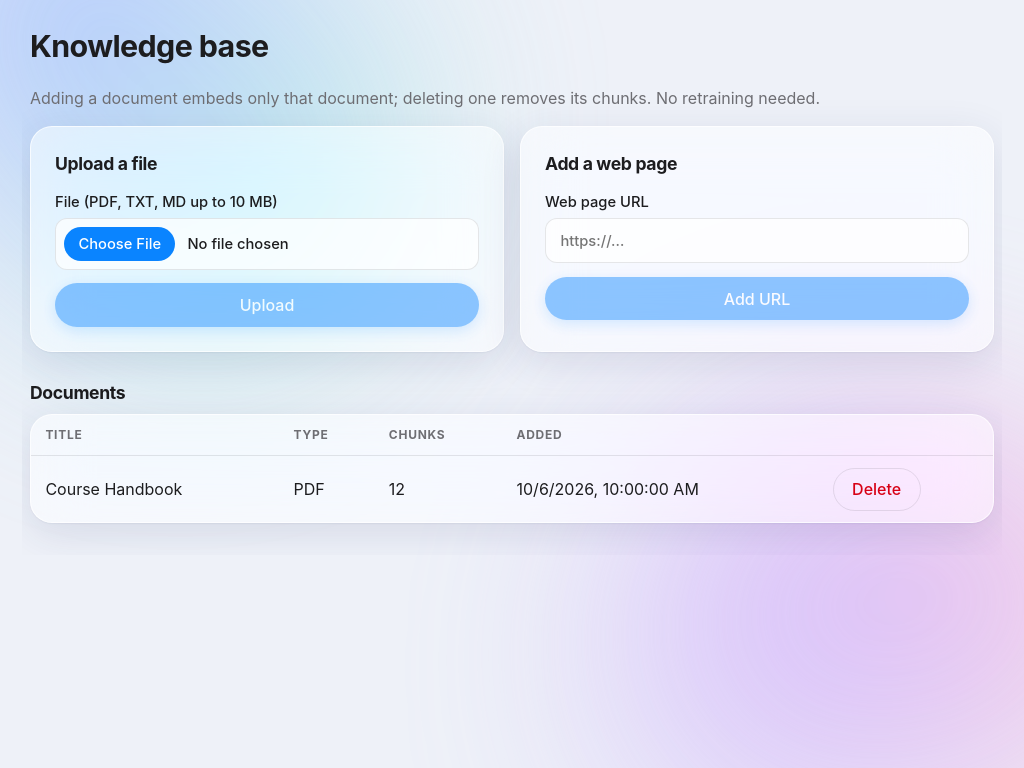
it: AdminPage › shows 'Already in knowledge base' when duplicate is true
Expected: the table is shown, [30,414,994,523]
Type "https://example.com/page" into the field labelled "Web page URL".
click(757, 241); type("https://example.com/page")  # box [545,218,969,263]
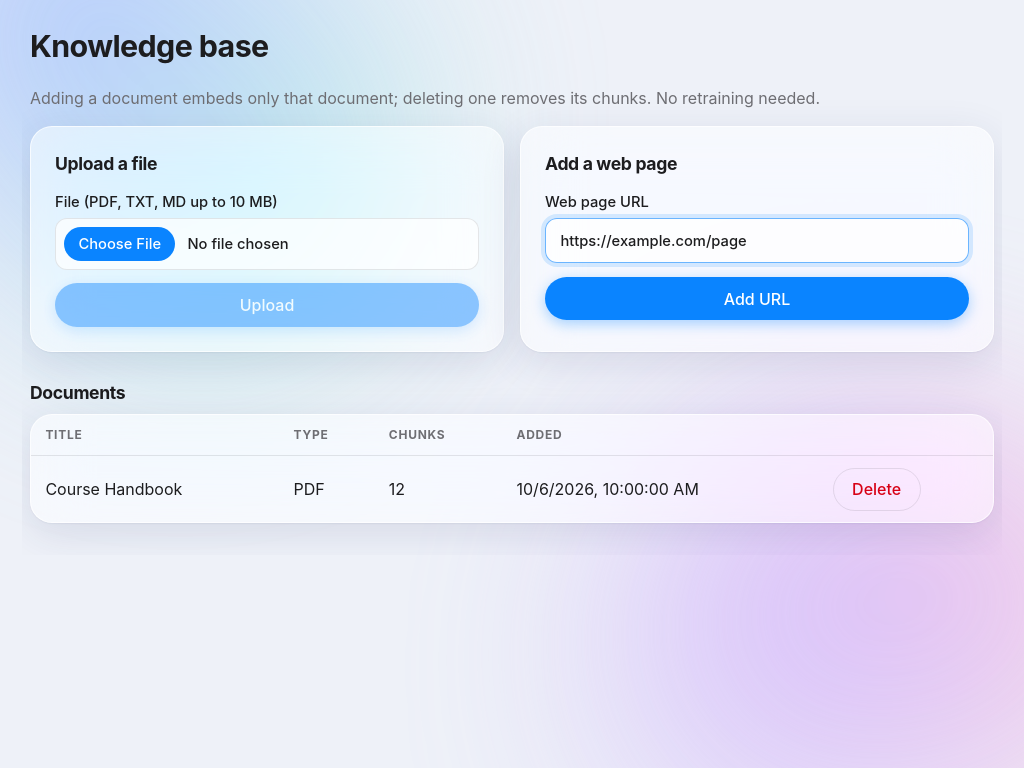
Click the button "Add URL".
click(757, 298)  # box [545,277,969,320]
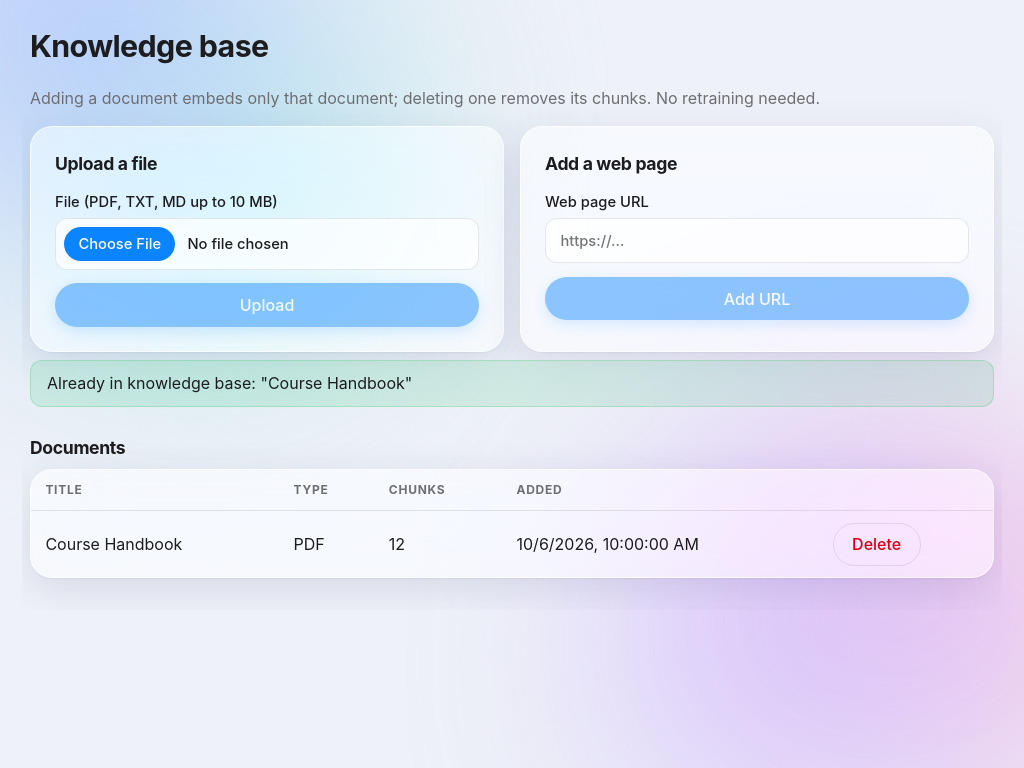
Result: the text "Already in knowledge base: \"Course Handbook\"" is shown at [30,360,994,406]
